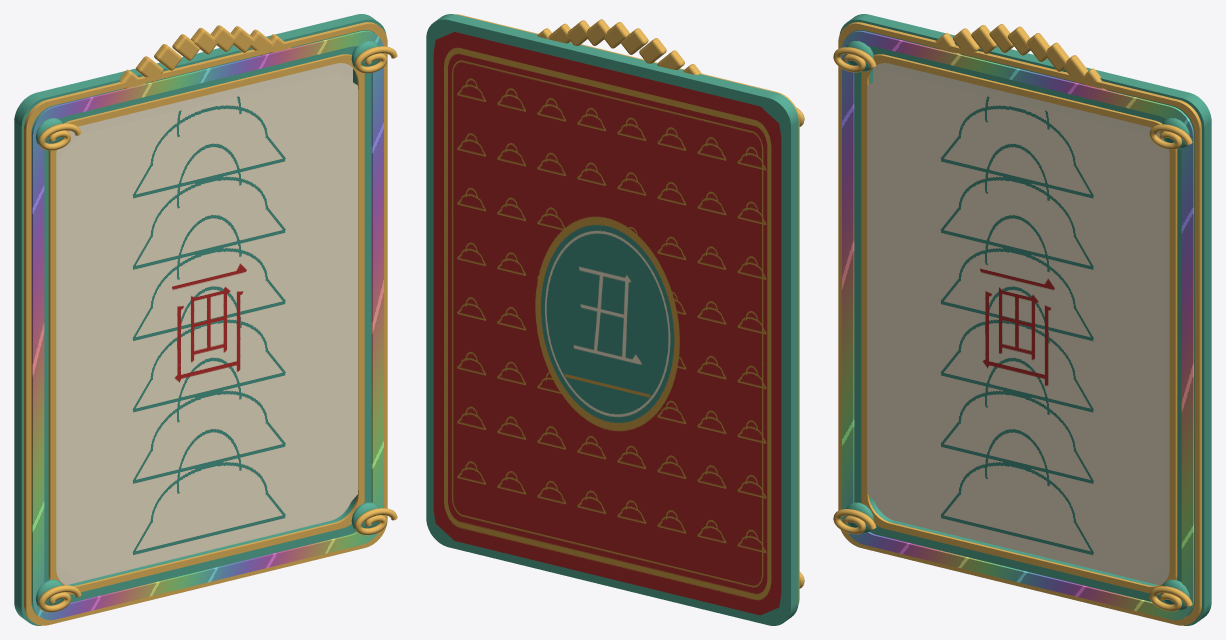
Rendered from joker-frame-special.glb.
The picture shows the model from 3 angles, left to right: view 1: azimuth 30°, elevation 25°; view 2: azimuth 150°, elevation 25°; view 3: azimuth 330°, elevation 25°; orthographic projection.
Visible parts, largest first — view 1: ReplaceableIllustration, Frame_special; view 2: Frame_special; view 3: ReplaceableIllustration, Frame_special.
Boxes of the visible parts, box(x1,y1,x2,y2) form: ReplaceableIllustration: box(59, 72, 358, 580); Frame_special: box(14, 14, 397, 625); Frame_special: box(426, 14, 804, 625); ReplaceableIllustration: box(867, 72, 1166, 580); Frame_special: box(833, 14, 1211, 625).
Bounding box in the file's own units: 2.1 × 3.07 × 0.218.
Materials: 6 (3 with a texture image).
